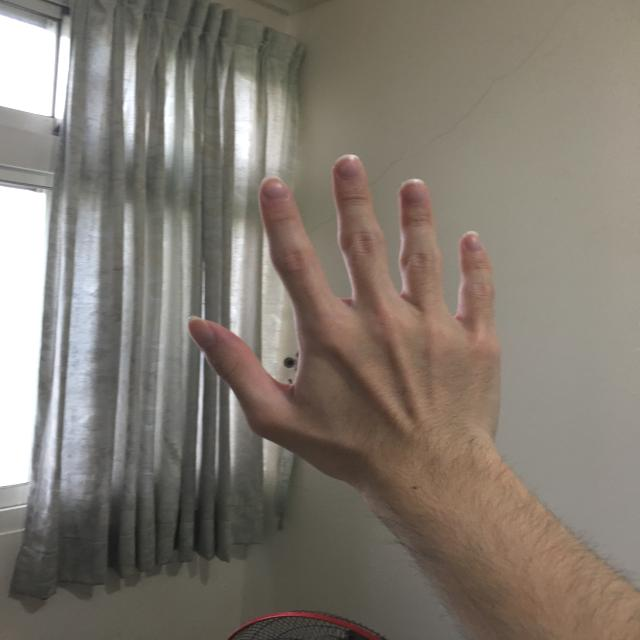no_glove: (171, 137, 518, 506)
